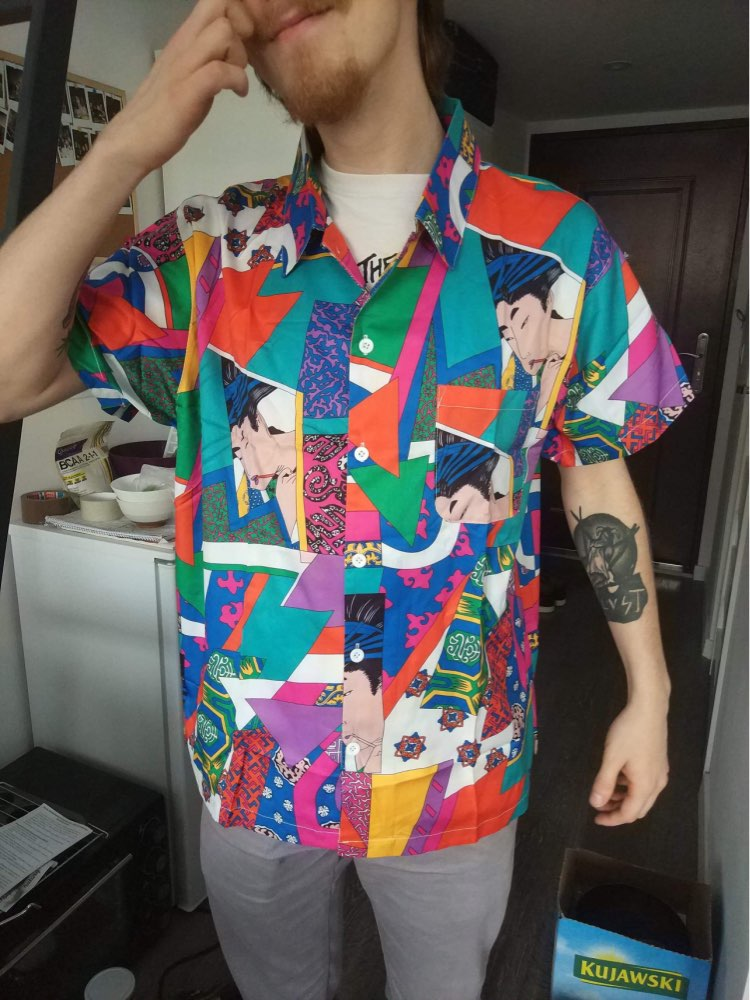shirts: (84, 98, 676, 829)
